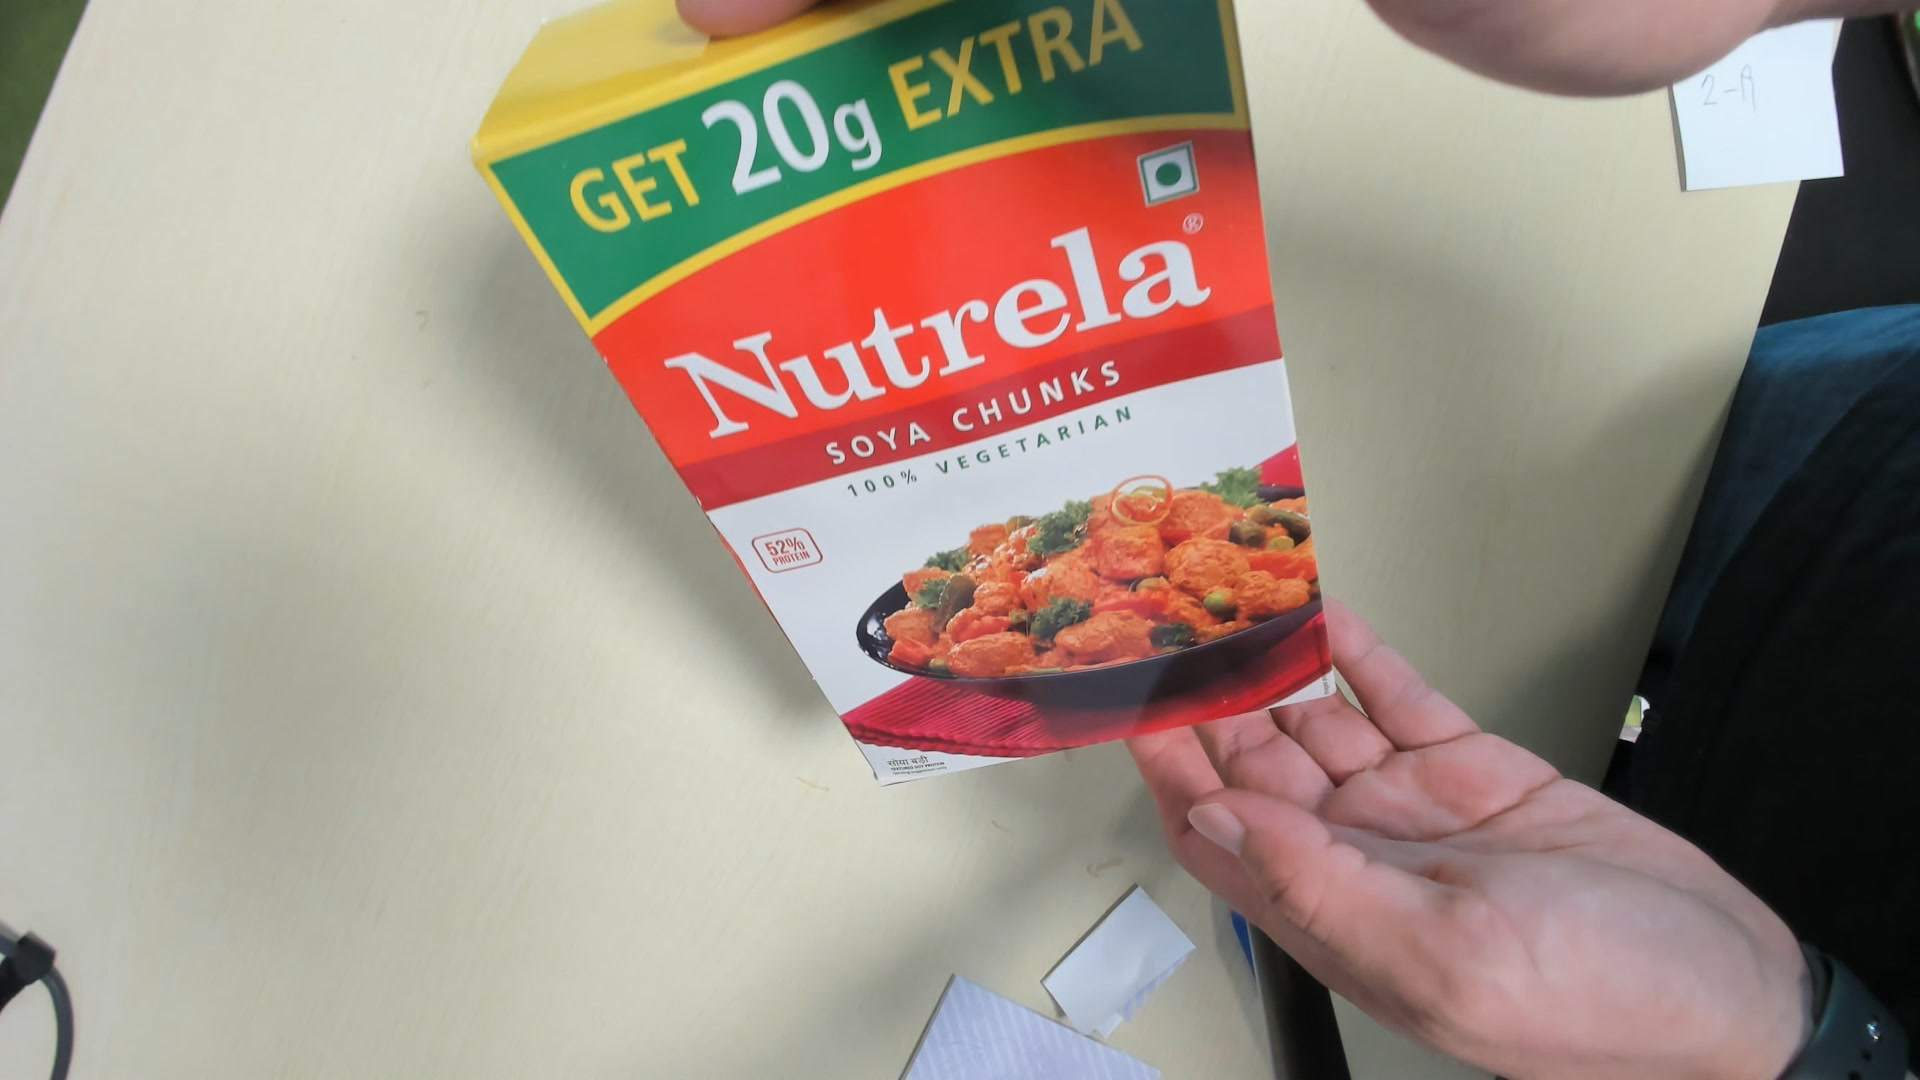InstantMeals_200_299g_NonHalal_NonHealthy: (469, 5, 1346, 793)
